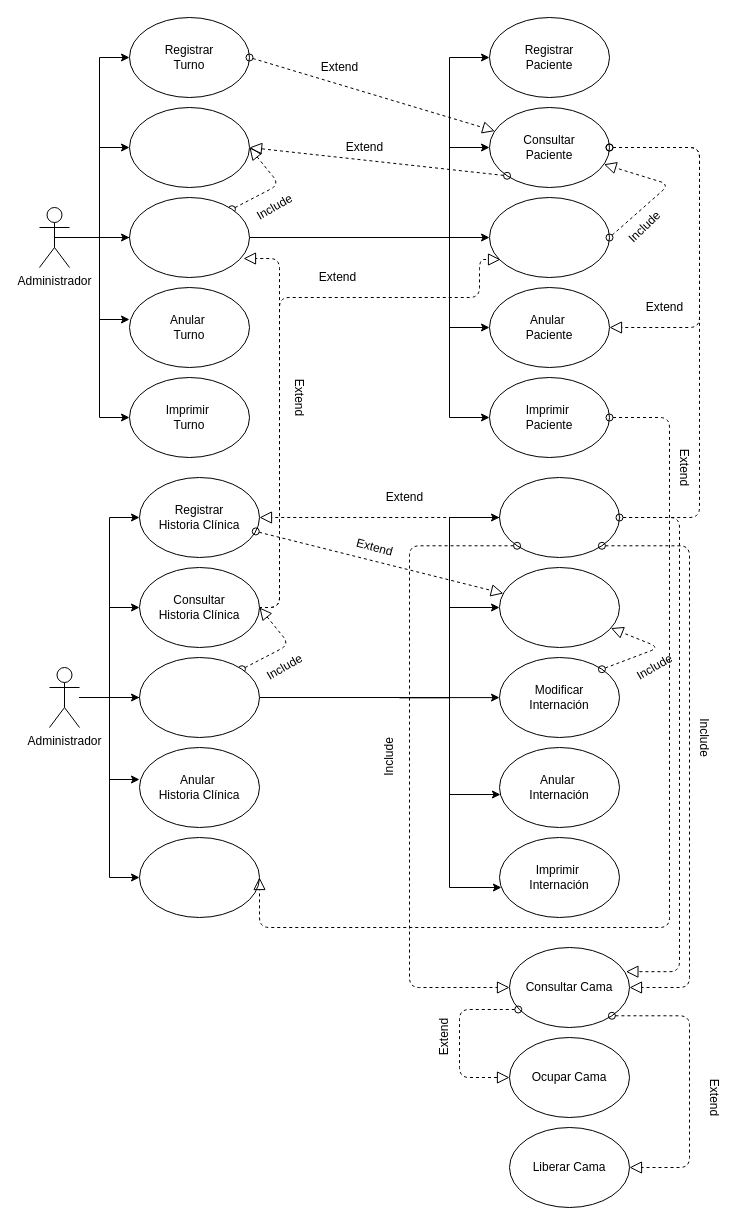
Some shapes in this 741 by 1225 pixel diagram are drawn without their labels. Here are the shapes that lost their labels. From the top down, the box of each, then its label:
(128, 106, 250, 188): Consultar Turno
(128, 196, 250, 278): Modificar Turno
(488, 196, 610, 278): Modificar Paciente
(498, 476, 620, 558): Registrar Iternación
(498, 566, 620, 648): Consultar Internación
(138, 656, 260, 738): Modificar Historia Clínica
(138, 836, 260, 918): Imprimir Historia Clínica
